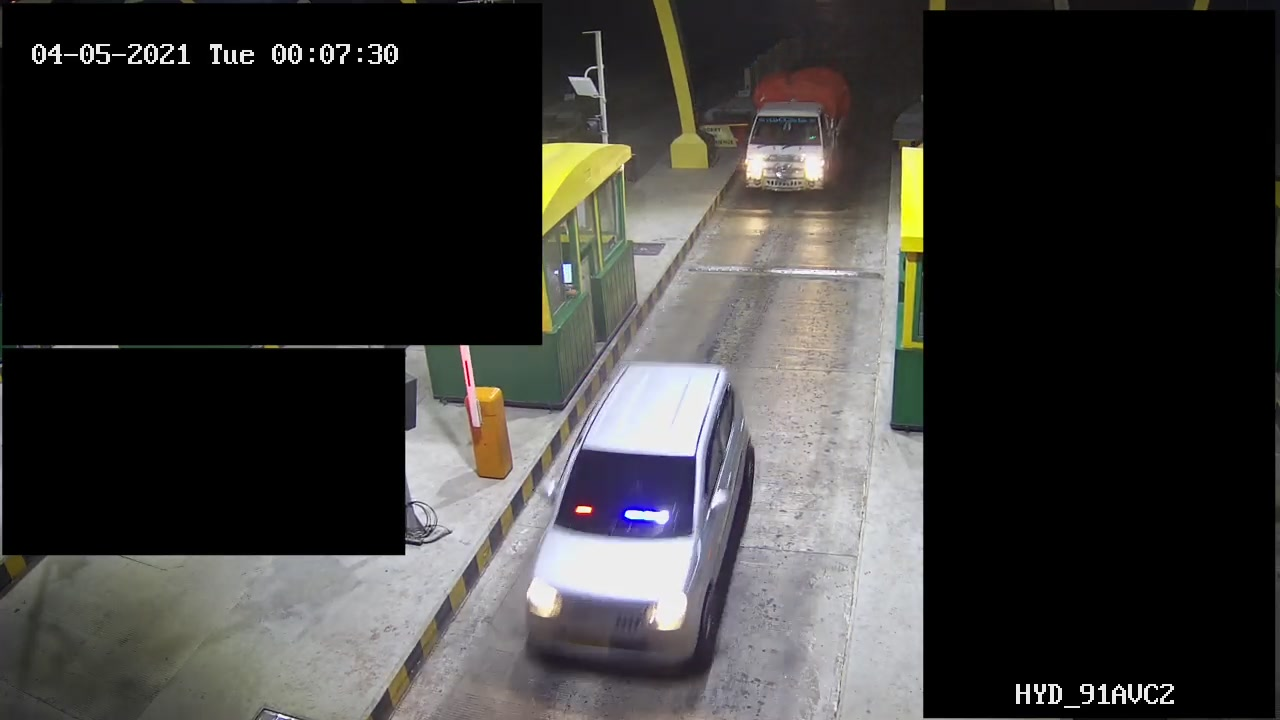F1: (491, 346, 799, 672)
F3: (738, 63, 850, 202)
